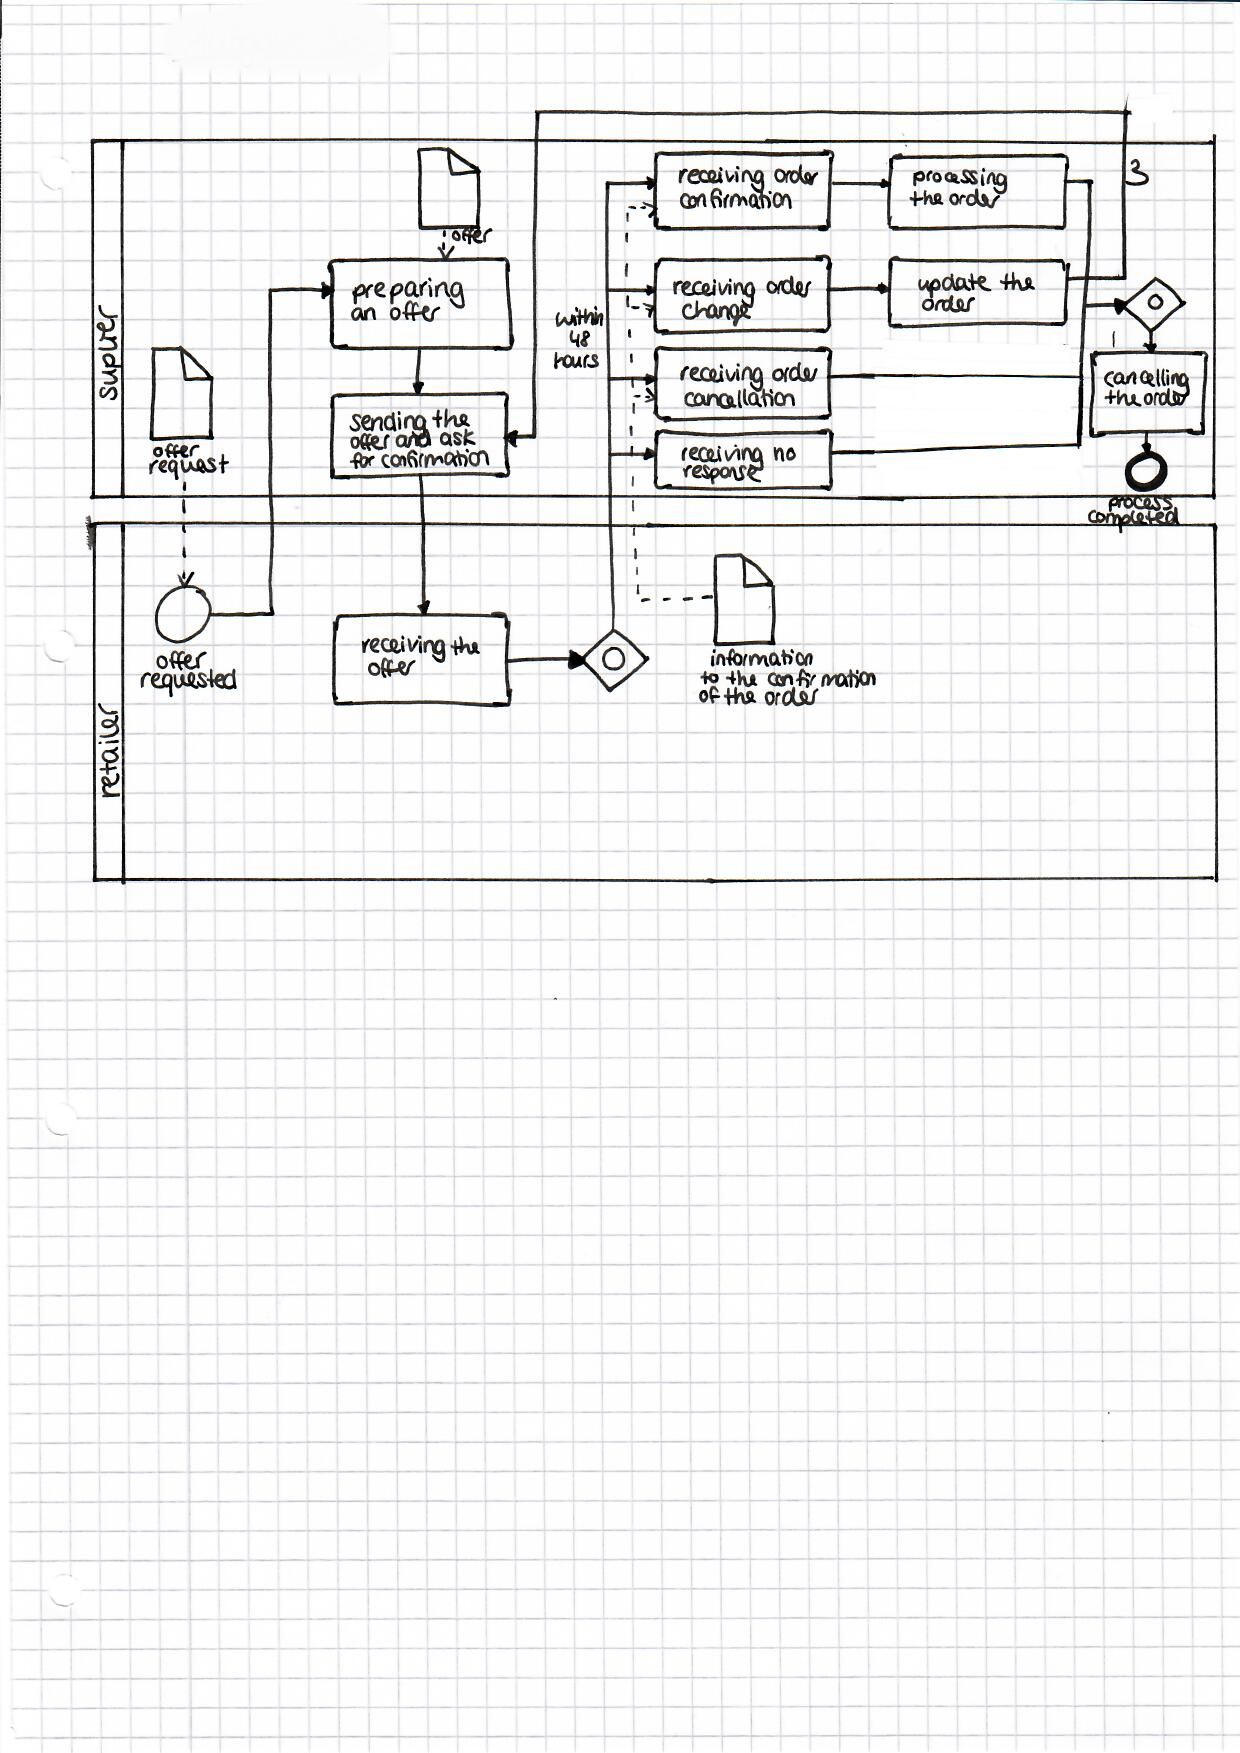3: (1126, 154, 1150, 187)
48: (568, 329, 593, 349)
Suplier: (93, 309, 119, 400)
an: (349, 303, 384, 325)
and: (395, 431, 437, 452)
ask: (439, 430, 476, 451)
cancellation: (678, 388, 794, 413)
cancelling: (1099, 368, 1189, 392)
change: (676, 299, 756, 325)
completed: (1082, 503, 1180, 532)
confirmation: (674, 189, 794, 213), (764, 668, 878, 693), (378, 450, 495, 471)
for: (348, 452, 376, 471)
hours: (549, 349, 599, 370)
information: (705, 650, 815, 668)
no: (772, 444, 798, 464)
of: (692, 685, 715, 709)
offer: (366, 656, 424, 679), (152, 651, 209, 674), (386, 302, 446, 323), (149, 442, 197, 463), (346, 434, 393, 452), (454, 226, 490, 242)
order: (770, 162, 820, 191), (768, 362, 819, 389), (760, 687, 823, 709), (761, 277, 813, 302), (917, 294, 978, 315), (943, 189, 1000, 209), (1139, 388, 1190, 409)
preparing: (349, 281, 466, 306)
process: (1104, 490, 1174, 507)
processing: (909, 169, 1008, 192)
receiving: (672, 164, 768, 191), (672, 362, 766, 388), (358, 634, 443, 660), (666, 277, 760, 301), (674, 444, 770, 464)
request: (148, 455, 232, 479)
requested: (134, 668, 239, 694)
response: (679, 464, 765, 485)
retailer: (95, 702, 122, 800)
sending: (346, 409, 425, 436)
the: (428, 408, 471, 434), (446, 635, 483, 660), (997, 272, 1035, 297), (718, 686, 757, 709), (723, 668, 764, 690), (1100, 387, 1138, 409), (906, 188, 943, 209)
to: (695, 670, 722, 690)
update: (917, 272, 994, 295)
within: (556, 306, 603, 329)
